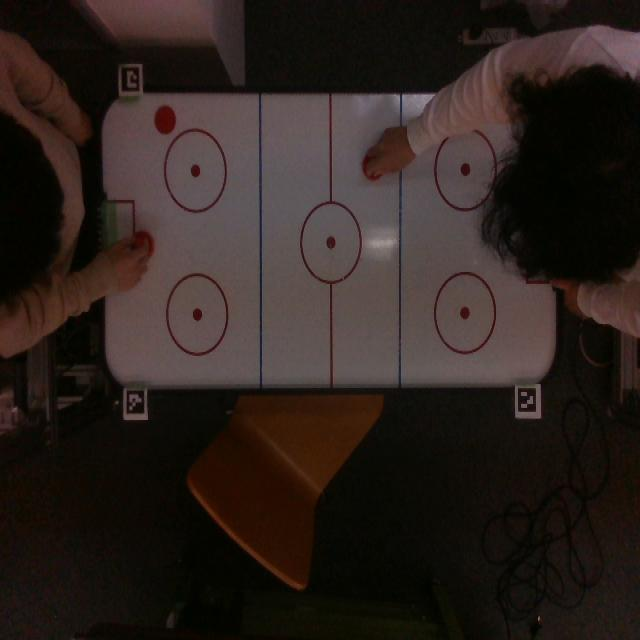puck: (154, 105, 176, 135)
